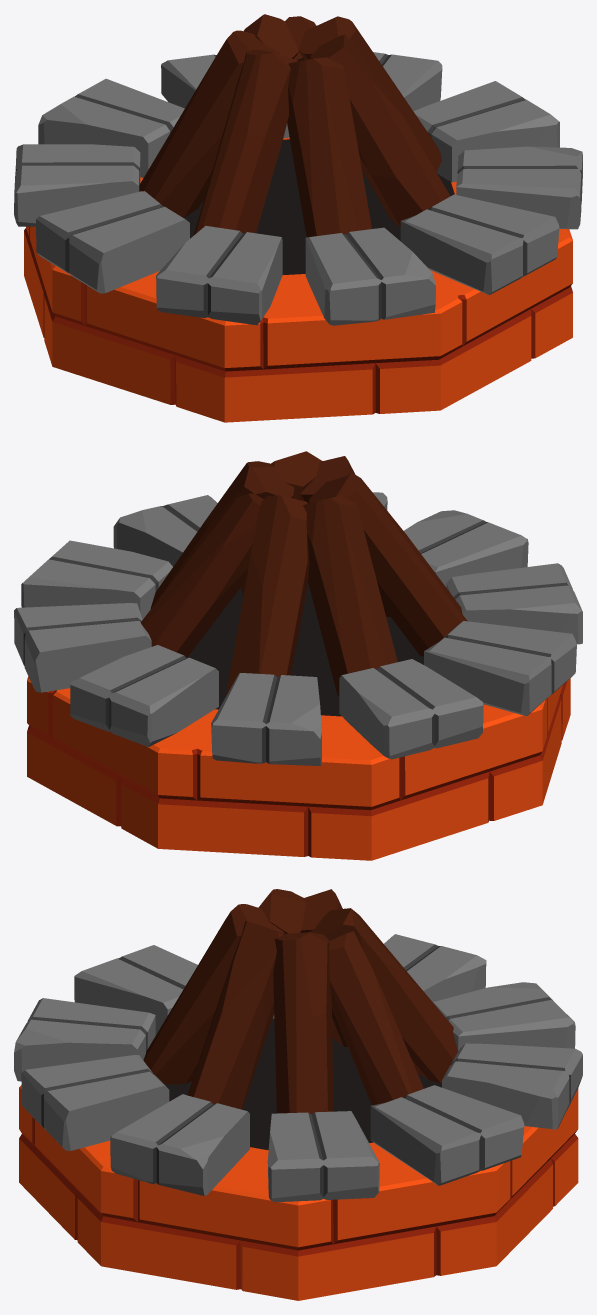
The model's file is CampFire_3.fbx.
3 views of the same model, one above another, from view 1: azimuth 30°, elevation 25°; view 2: azimuth 150°, elevation 25°; view 3: azimuth 270°, elevation 25° (orthographic).
Parts seen in each view (by area): view 1: CampFire_3; view 2: CampFire_3; view 3: CampFire_3.
Boxes of the visible parts, x1,y1,x2,y2 form: CampFire_3: (14,14,582,422); CampFire_3: (14,451,582,860); CampFire_3: (14,889,582,1300).
Size of the model in its own units: 51.99 by 27.62 by 52.51.
